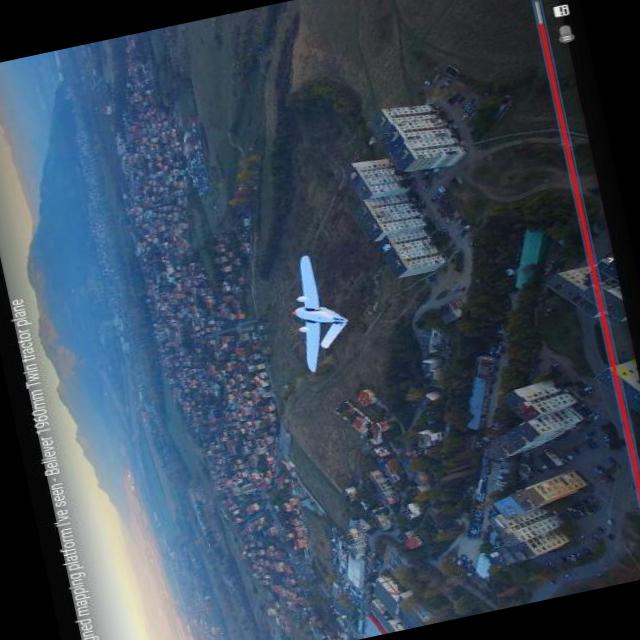UAV: (271, 260, 364, 358)
